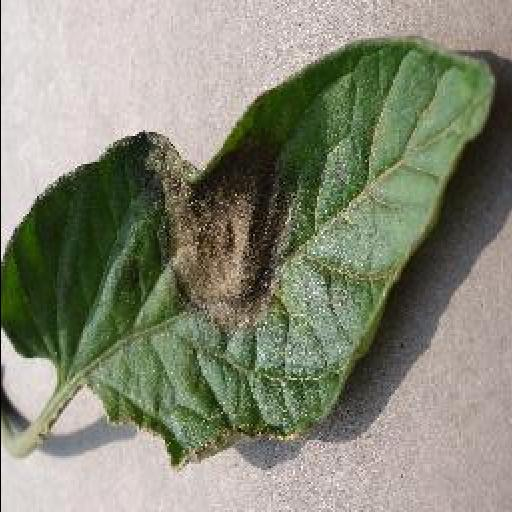disease_tomato: (0, 38, 494, 470)
